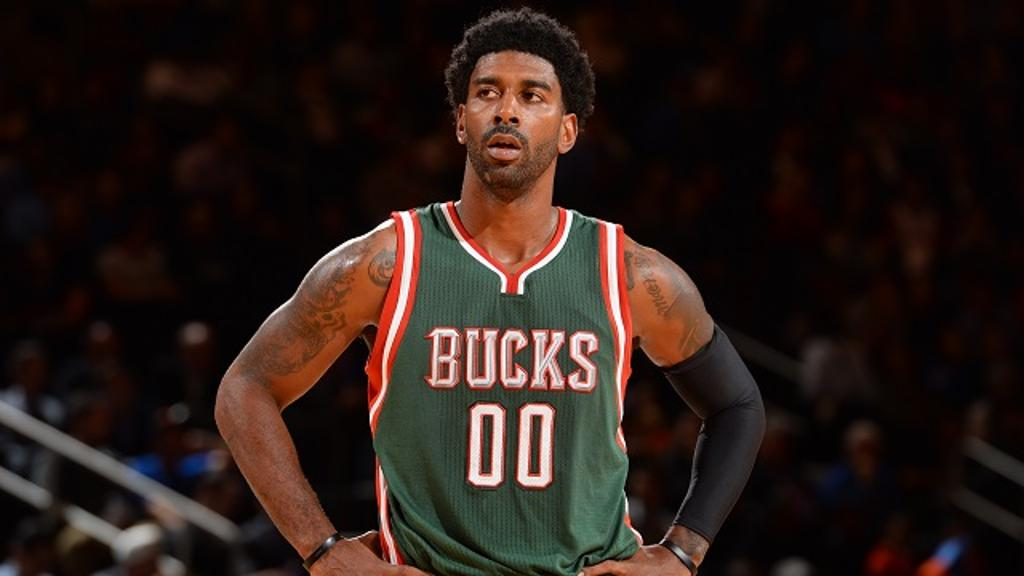face: (462, 52, 554, 186)
